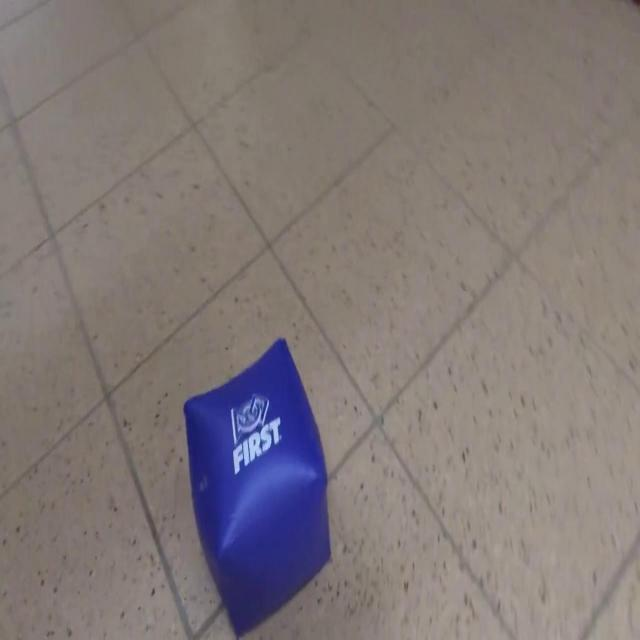frc_cube: (182, 334, 332, 638)
